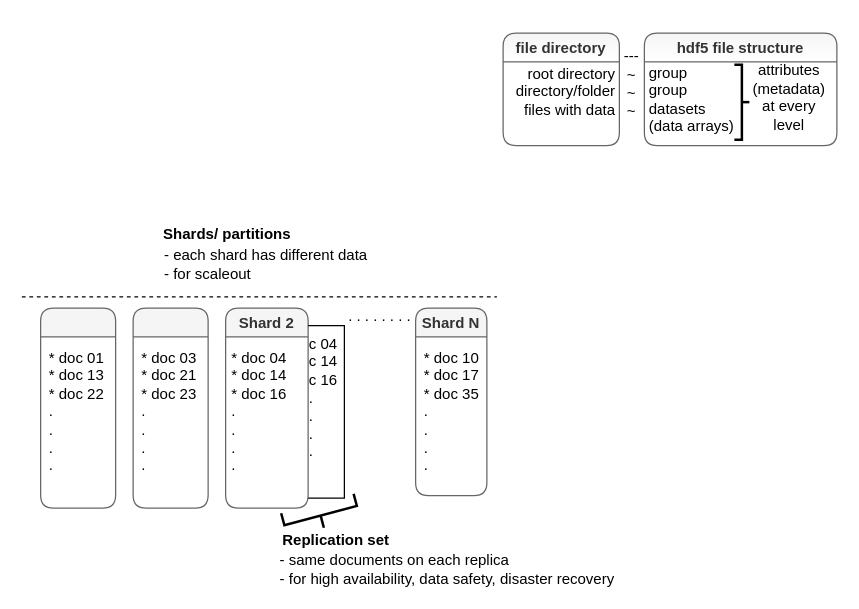
The diagram is 859 pixels wide and 609 high, and some of its shapes have lost their labels. The shapes that lost their labels are listed below. From the top down, each one's box as (x1, y1, x2, y2) in pixels, then its label:
(39, 307, 116, 508): Shard 0
(132, 307, 208, 508): Shard 1
